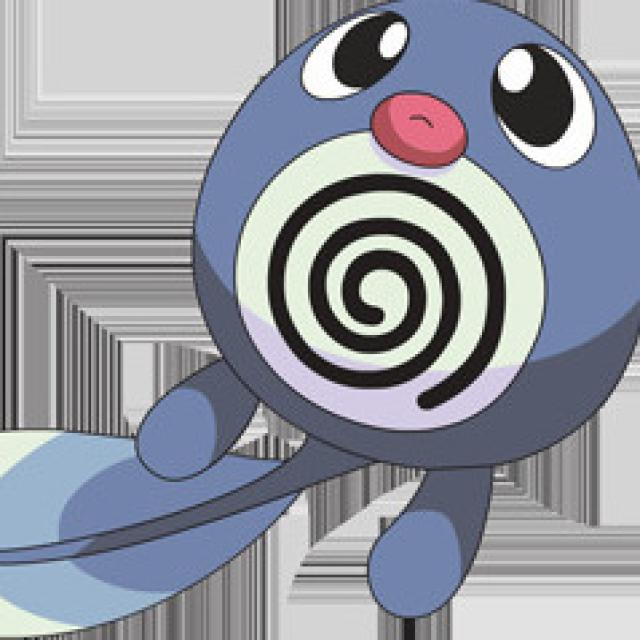Poliwag: (184, 0, 639, 548)
